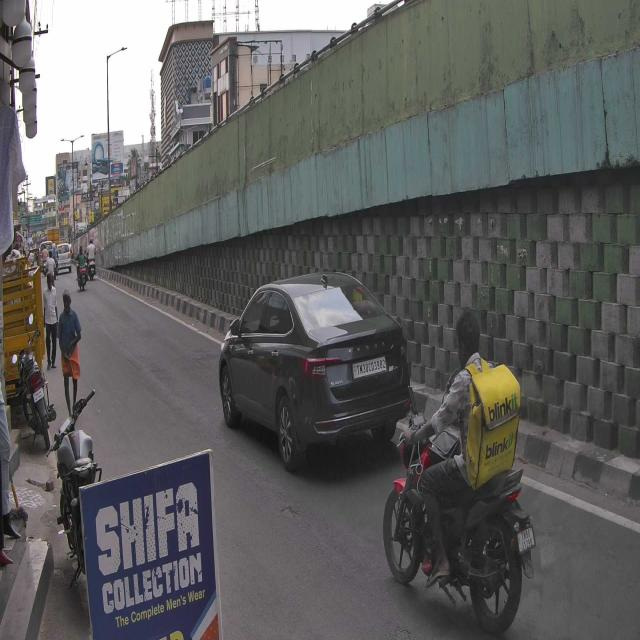single_rider: (379, 306, 540, 639)
